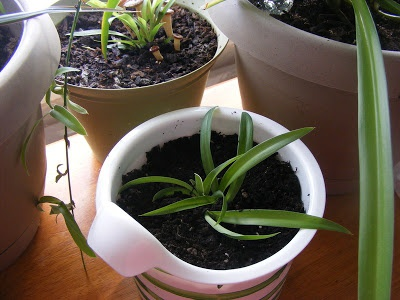flowerpot: (98, 108, 330, 300), (56, 1, 229, 175)
